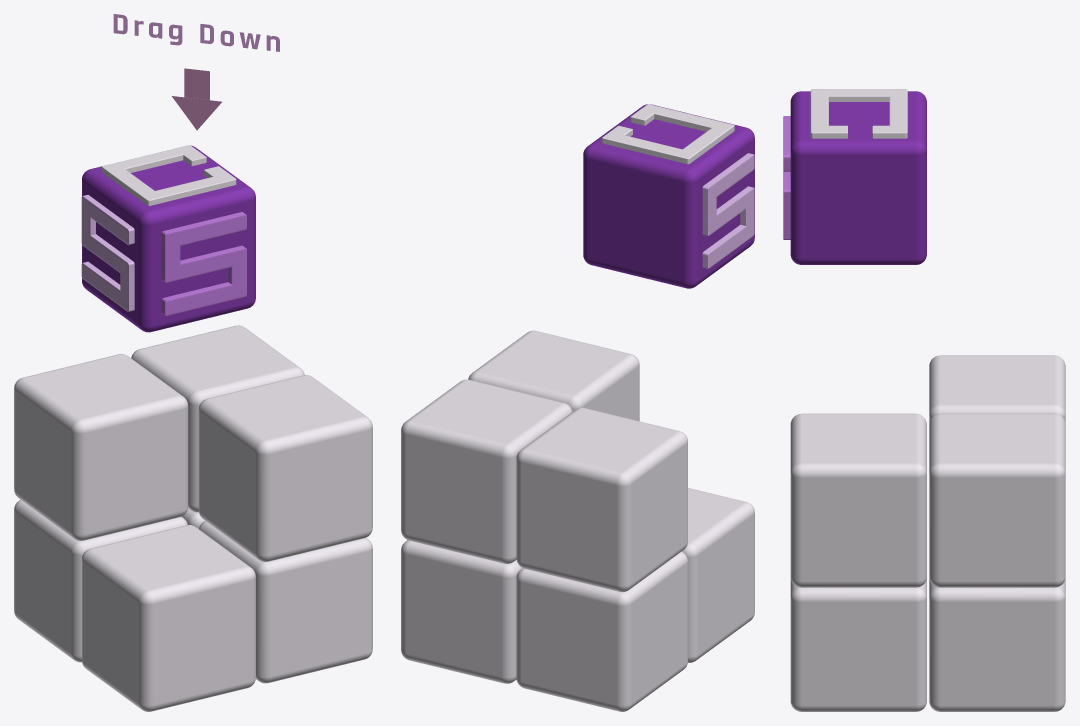
The model's file is scs-hero-puzzle.glb.
3 renders of one model, left to right at view 1: azimuth 30°, elevation 25°; view 2: azimuth 150°, elevation 25°; view 3: azimuth 270°, elevation 25°, orthographic. The views are drawn at different scales.
Visible parts, largest first — view 1: Cube 5 (×3), Cube 2, Cube 4, Cube, Cube 3, Solutions S, Solid S, Code C, Arrow, Drag Down; view 2: Cube 5 (×3), Cube 3, Cube, Cube 4, Cube 2, Solid S, Code C; view 3: Cube 5 (×3), Cube 4 (×2), Cube, Code C, Solutions S.
Part boxes in pixels (box(x1,y1,x2,y2)): Cube 5 (×3): box(14, 325, 372, 561); Cube 2: box(82, 525, 255, 711); Cube 4: box(199, 521, 372, 683); Cube: box(82, 145, 255, 332); Cube 3: box(14, 500, 187, 662); Solutions S: box(161, 212, 246, 316); Solid S: box(81, 195, 134, 311); Code C: box(102, 145, 236, 205); Arrow: box(172, 68, 221, 130); Drag Down: box(113, 14, 279, 51); Cube 5 (×3): box(401, 330, 687, 592); Cube 3: box(516, 551, 687, 711); Cube: box(583, 104, 754, 288); Cube 4: box(401, 540, 522, 683); Cube 2: box(682, 488, 754, 662); Solid S: box(702, 153, 754, 268); Code C: box(602, 104, 734, 164); Cube 5 (×3): box(790, 355, 1065, 587); Cube 4 (×2): box(790, 578, 1065, 711); Cube: box(790, 91, 926, 264); Code C: box(810, 89, 907, 138); Solutions S: box(783, 116, 790, 239).
Size of what is drawn, in the model's own units: 2.5 by 6.09 by 2.5.
